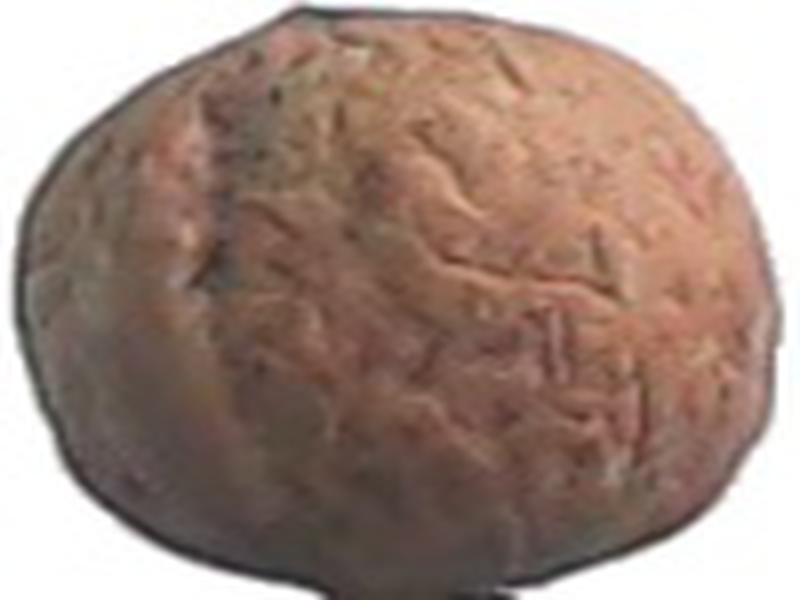walnut: (1, 1, 800, 599)
